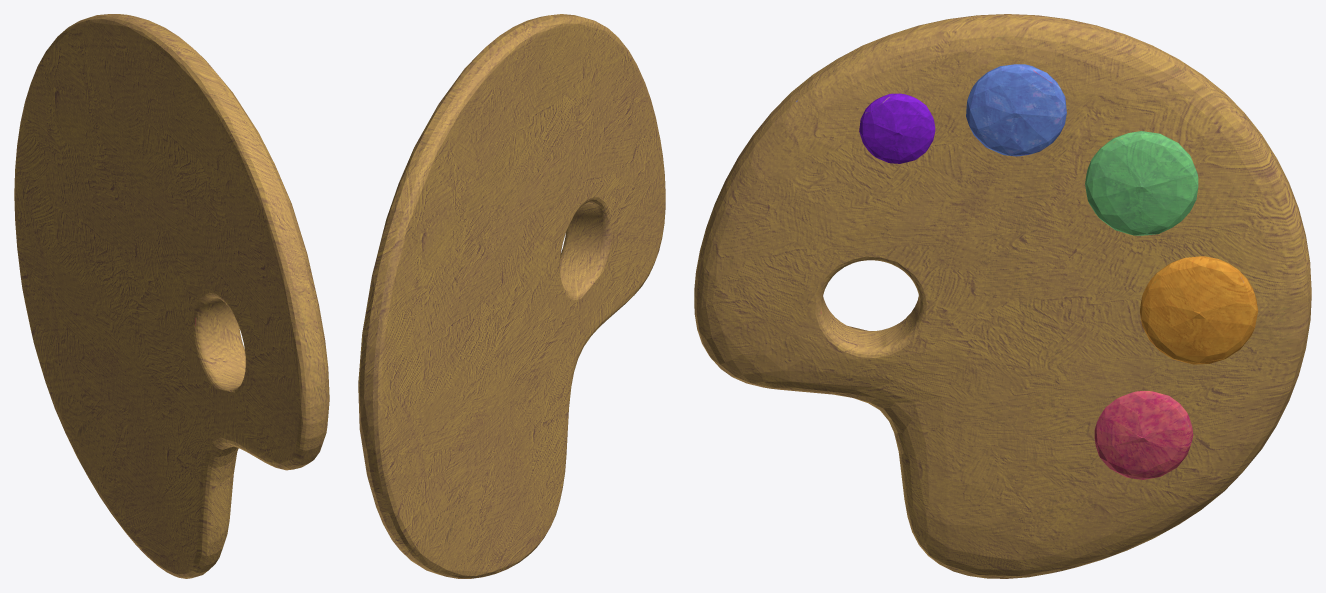
File: Palette(realFinal).fbx
3 renders of one model, left to right at view 1: azimuth 30°, elevation 25°; view 2: azimuth 150°, elevation 25°; view 3: azimuth 270°, elevation 25°, orthographic. The views are drawn at different scales.
Visible parts, largest first — view 1: pALETTE.002; view 2: pALETTE.002; view 3: pALETTE.002.
Part boxes in pixels (box(x1,y1,x2,y2)): pALETTE.002: box(14, 14, 329, 578); pALETTE.002: box(358, 14, 665, 578); pALETTE.002: box(694, 14, 1311, 578).
Bounding box in the file's own units: 0.1368 × 1.29 × 1.29.
